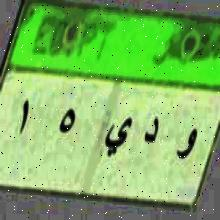1: (18, 93, 30, 142)
5: (58, 104, 78, 140)
daal: (142, 111, 160, 158)
waw: (174, 117, 200, 167)
yaa: (106, 116, 132, 160)
